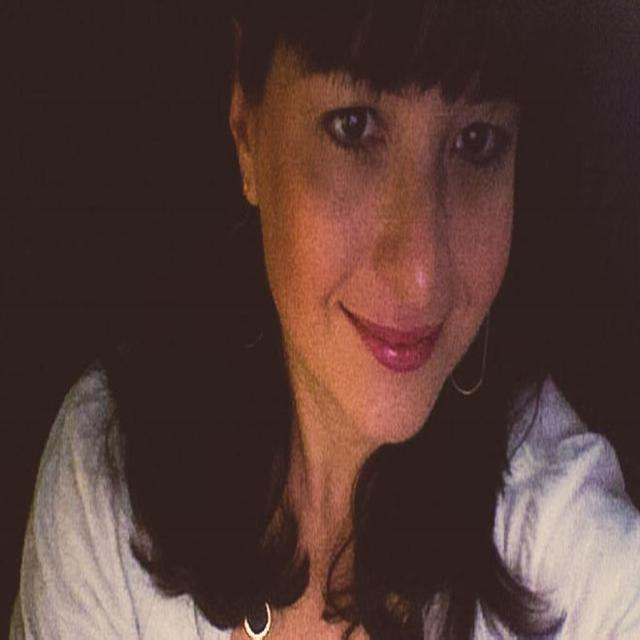nomask: (263, 6, 515, 442)
